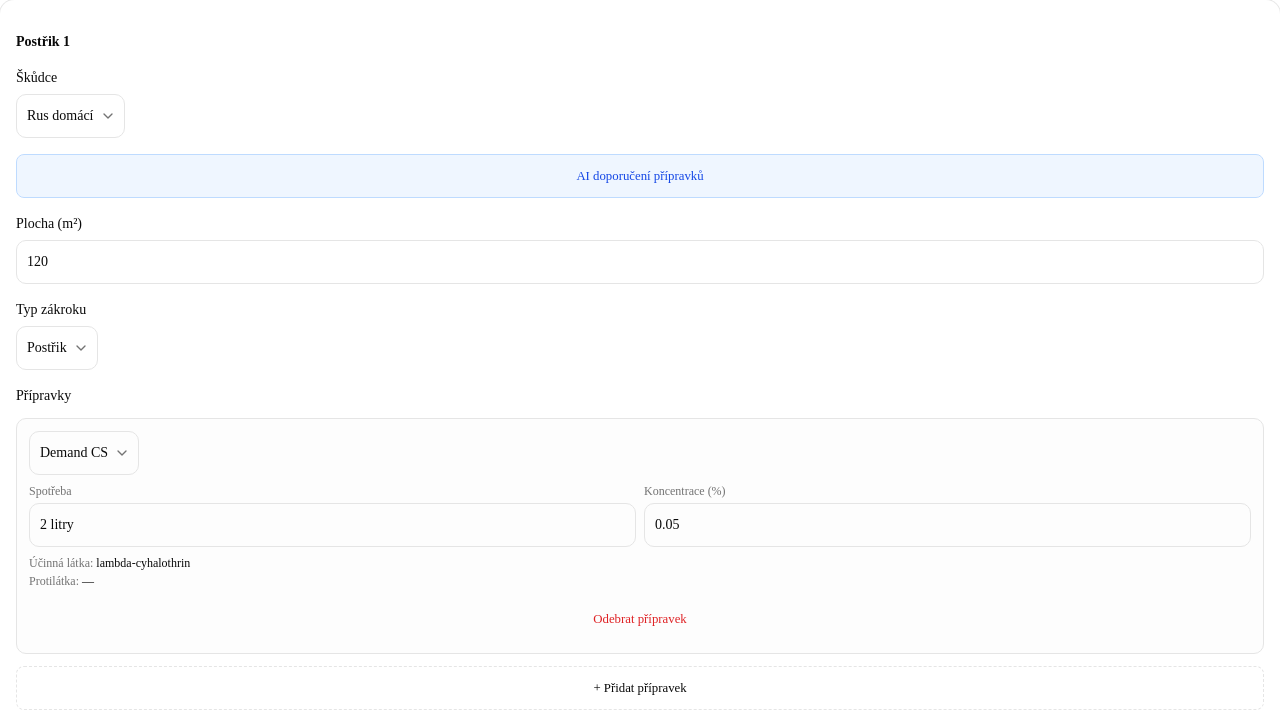
PostrikFormView › AI doporučení přípravků zobrazuje chybu
Click the button "AI doporučení přípravků" at (640, 176), box [16,154,1264,198]
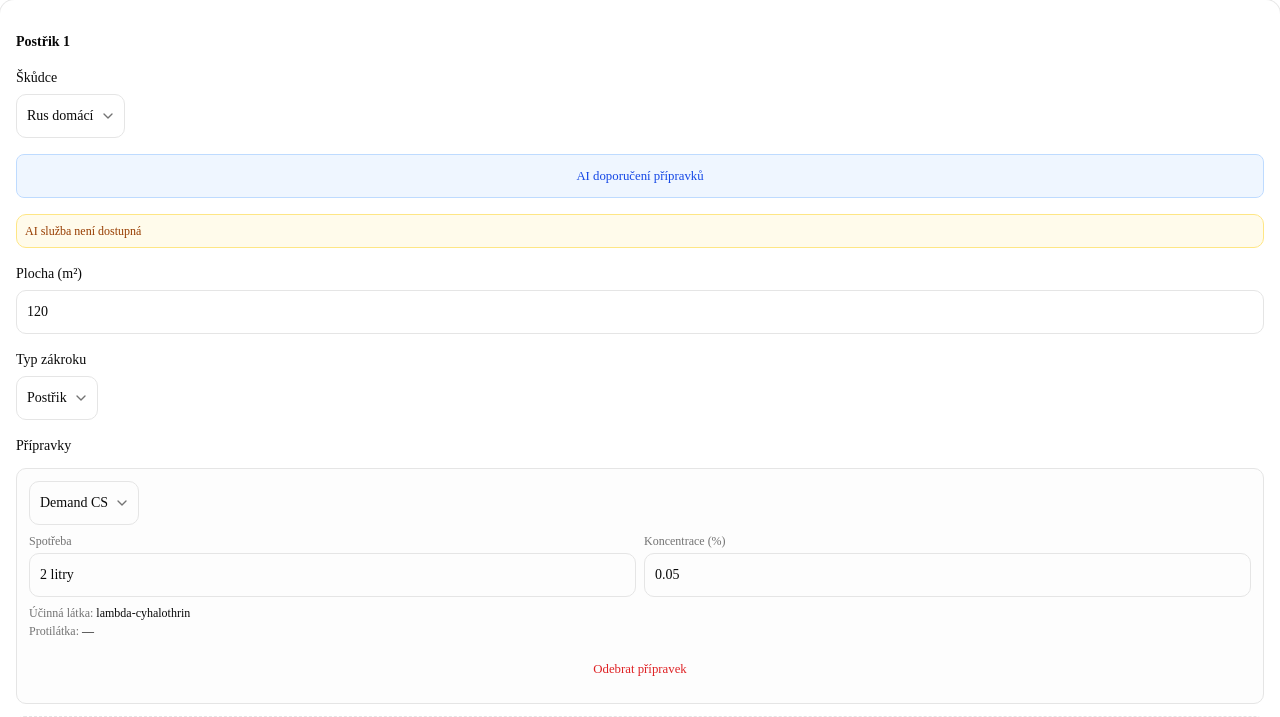
Now the text "AI služba není dostupná" is shown, box [25,224,141,238]
